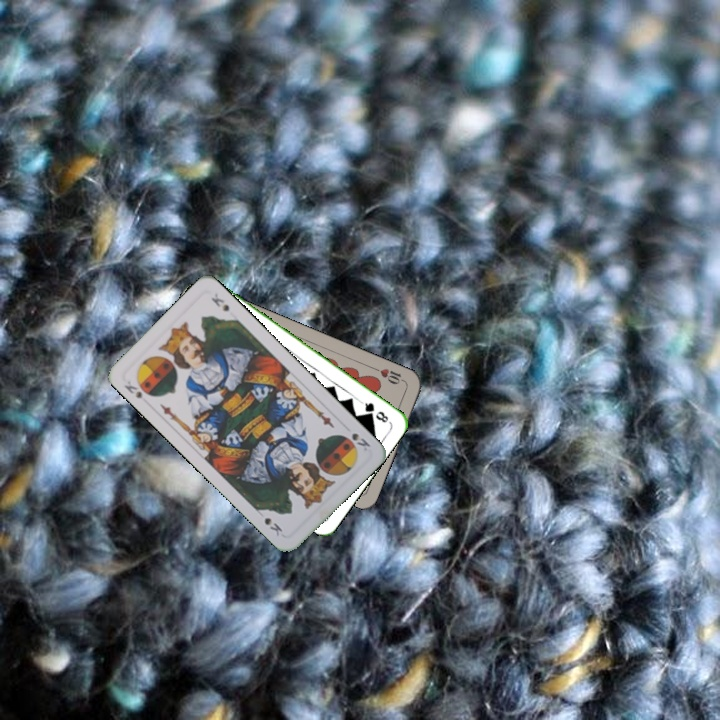G8: (357, 397, 391, 425)
H10: (370, 363, 409, 387)
SK: (348, 429, 373, 454), (120, 377, 144, 401)
